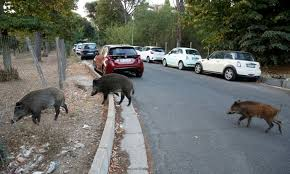boar: (10, 86, 67, 126), (227, 98, 283, 135), (89, 73, 135, 106)
